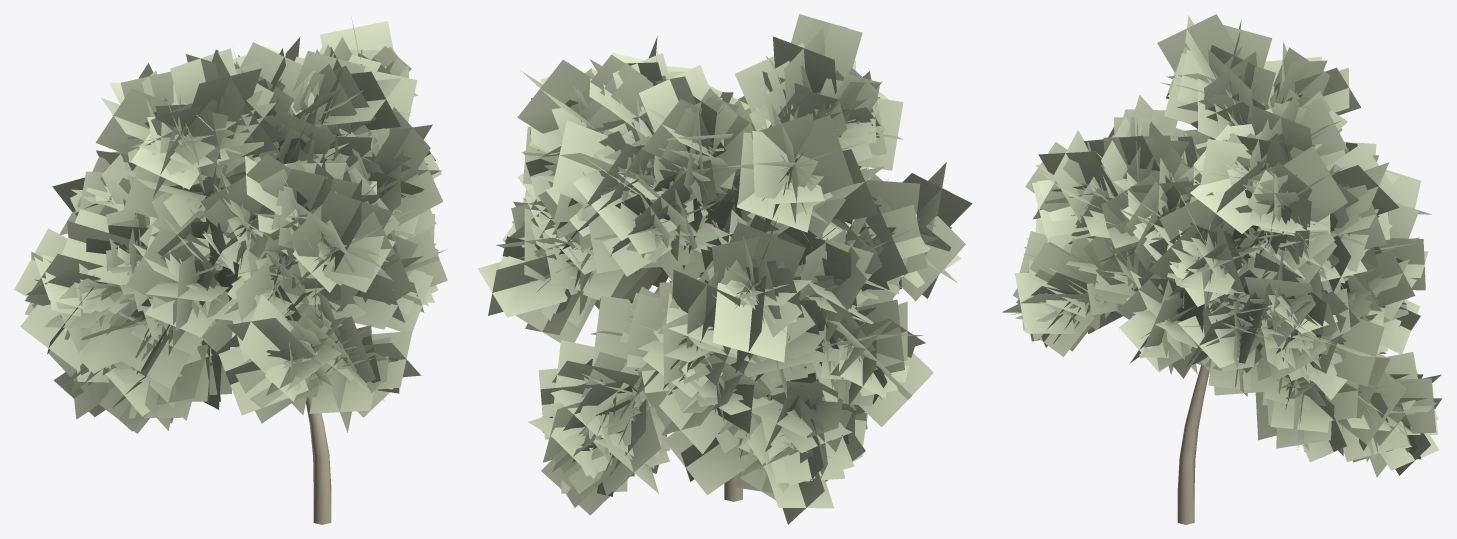
File: sakura.glb
3 views of the same model, side by side, from view 1: azimuth 30°, elevation 25°; view 2: azimuth 150°, elevation 25°; view 3: azimuth 270°, elevation 25° (orthographic). The views are drawn at different scales.
Size of the model in its own units: 8.46 by 10 by 8.61.
